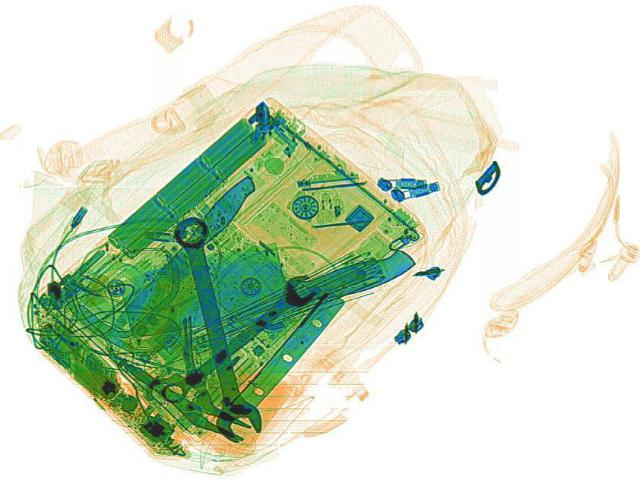Knife: (98, 207, 420, 351), (108, 170, 264, 330)
Wrench: (149, 268, 327, 405), (162, 213, 266, 441)
